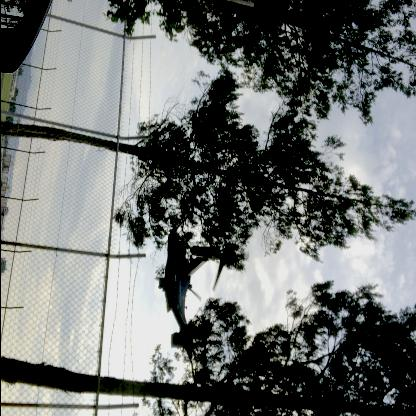Tornado: (157, 228, 249, 350)
